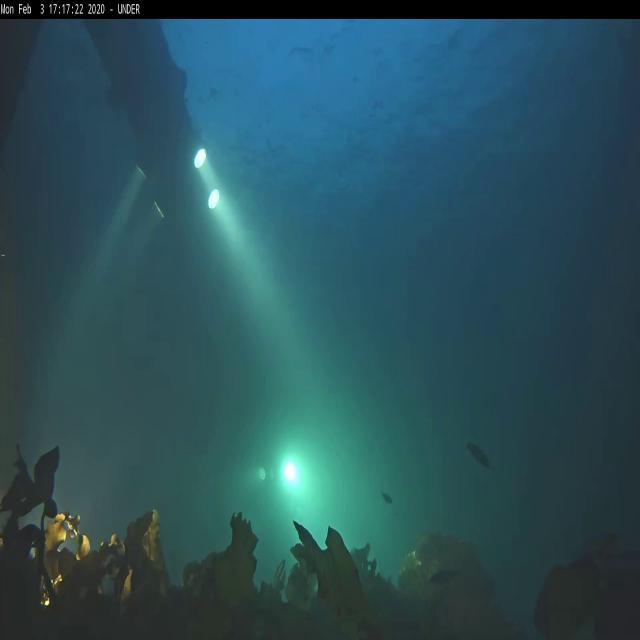fish: (466, 442, 494, 469), (428, 564, 460, 586), (274, 561, 288, 590), (379, 492, 394, 505)
